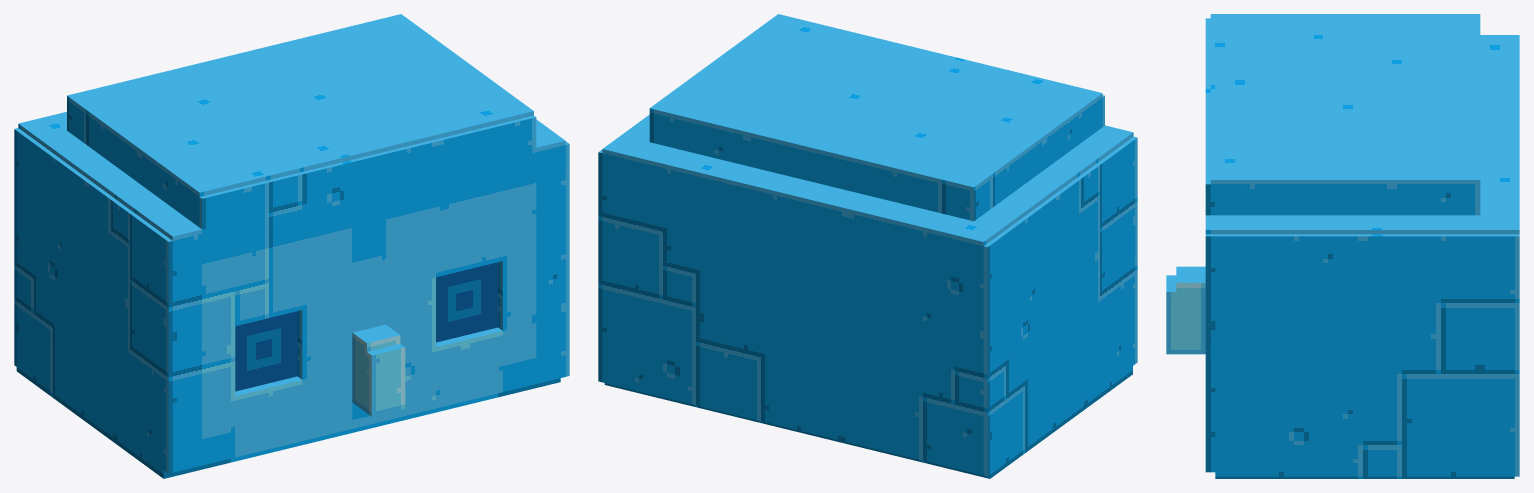
Rendered from big_owl_pyramid_headao.fezao.glb.
3 views of the same model, side by side, from view 1: azimuth 30°, elevation 25°; view 2: azimuth 150°, elevation 25°; view 3: azimuth 270°, elevation 25° (orthographic). The views are drawn at different scales.
Visible parts, largest first — view 1: BIG_OWL_PYRAMID_HEADAO; view 2: BIG_OWL_PYRAMID_HEADAO; view 3: BIG_OWL_PYRAMID_HEADAO.
Boxes of the visible parts, <box> form: BIG_OWL_PYRAMID_HEADAO: <box>14,14,569,478</box>; BIG_OWL_PYRAMID_HEADAO: <box>598,14,1137,478</box>; BIG_OWL_PYRAMID_HEADAO: <box>1166,14,1519,478</box>.
Size of the model in its own units: 6 by 4 by 4.5.
Materials: 1 (1 with a texture image).
